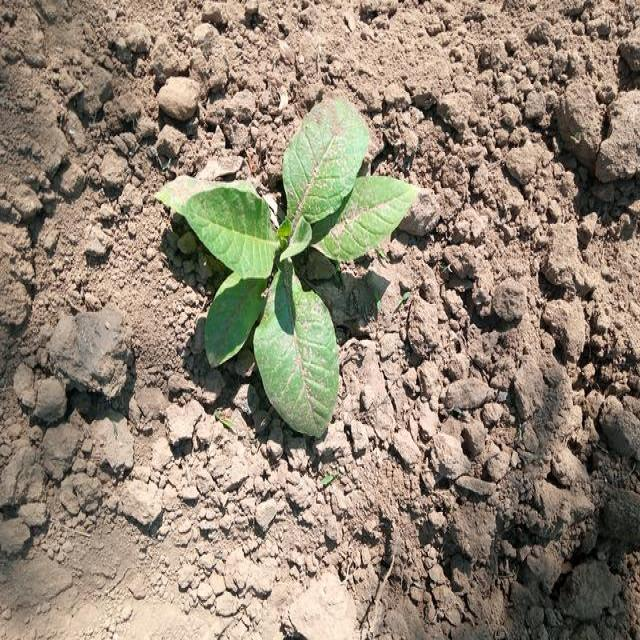crop: (148, 104, 422, 441)
